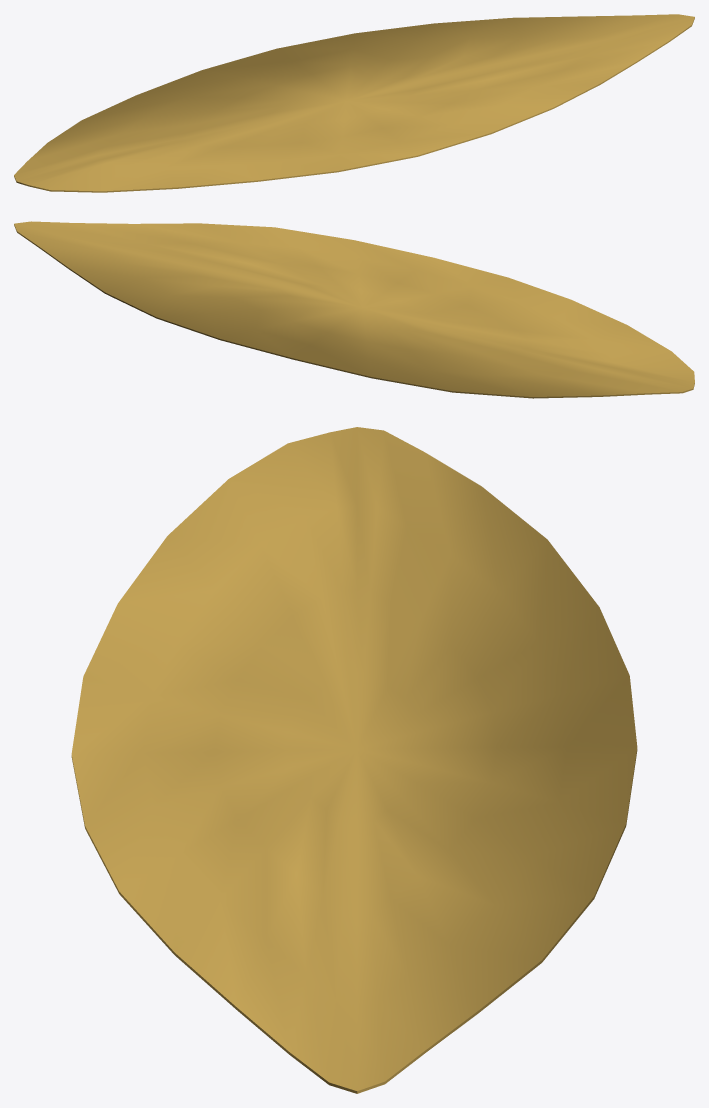
Rendered from fogtail_carp_skin.glb.
3 views of the same model, one above another, from view 1: azimuth 30°, elevation 25°; view 2: azimuth 150°, elevation 25°; view 3: azimuth 270°, elevation 25° (orthographic). The views are drawn at different scales.
Parts seen in each view (by area): view 1: fogtail_carp_skin; view 2: fogtail_carp_skin; view 3: fogtail_carp_skin.
Boxes of the visible parts, bbox=[...] form: fogtail_carp_skin: bbox=[14, 14, 694, 192]; fogtail_carp_skin: bbox=[14, 221, 694, 398]; fogtail_carp_skin: bbox=[71, 427, 637, 1093].
Size of the model in its own units: 0.18 by 0.0015 by 0.065.
